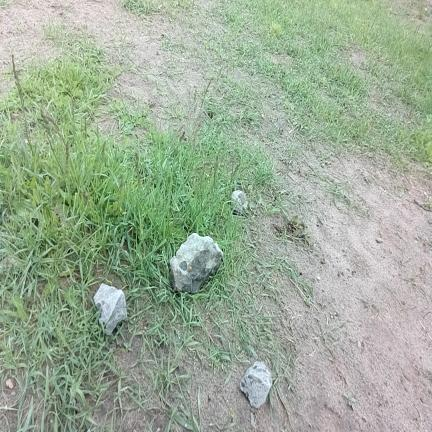Rock: (169, 234, 222, 293), (94, 284, 126, 334), (241, 362, 272, 407), (232, 191, 247, 214)
